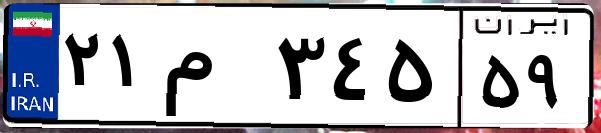1: (110, 28, 158, 98)
2: (57, 26, 110, 100)
3: (270, 28, 330, 110)
4: (330, 28, 385, 110)
5: (385, 28, 445, 110), (475, 38, 525, 113)
9: (525, 38, 570, 115)
م: (158, 20, 270, 120)
